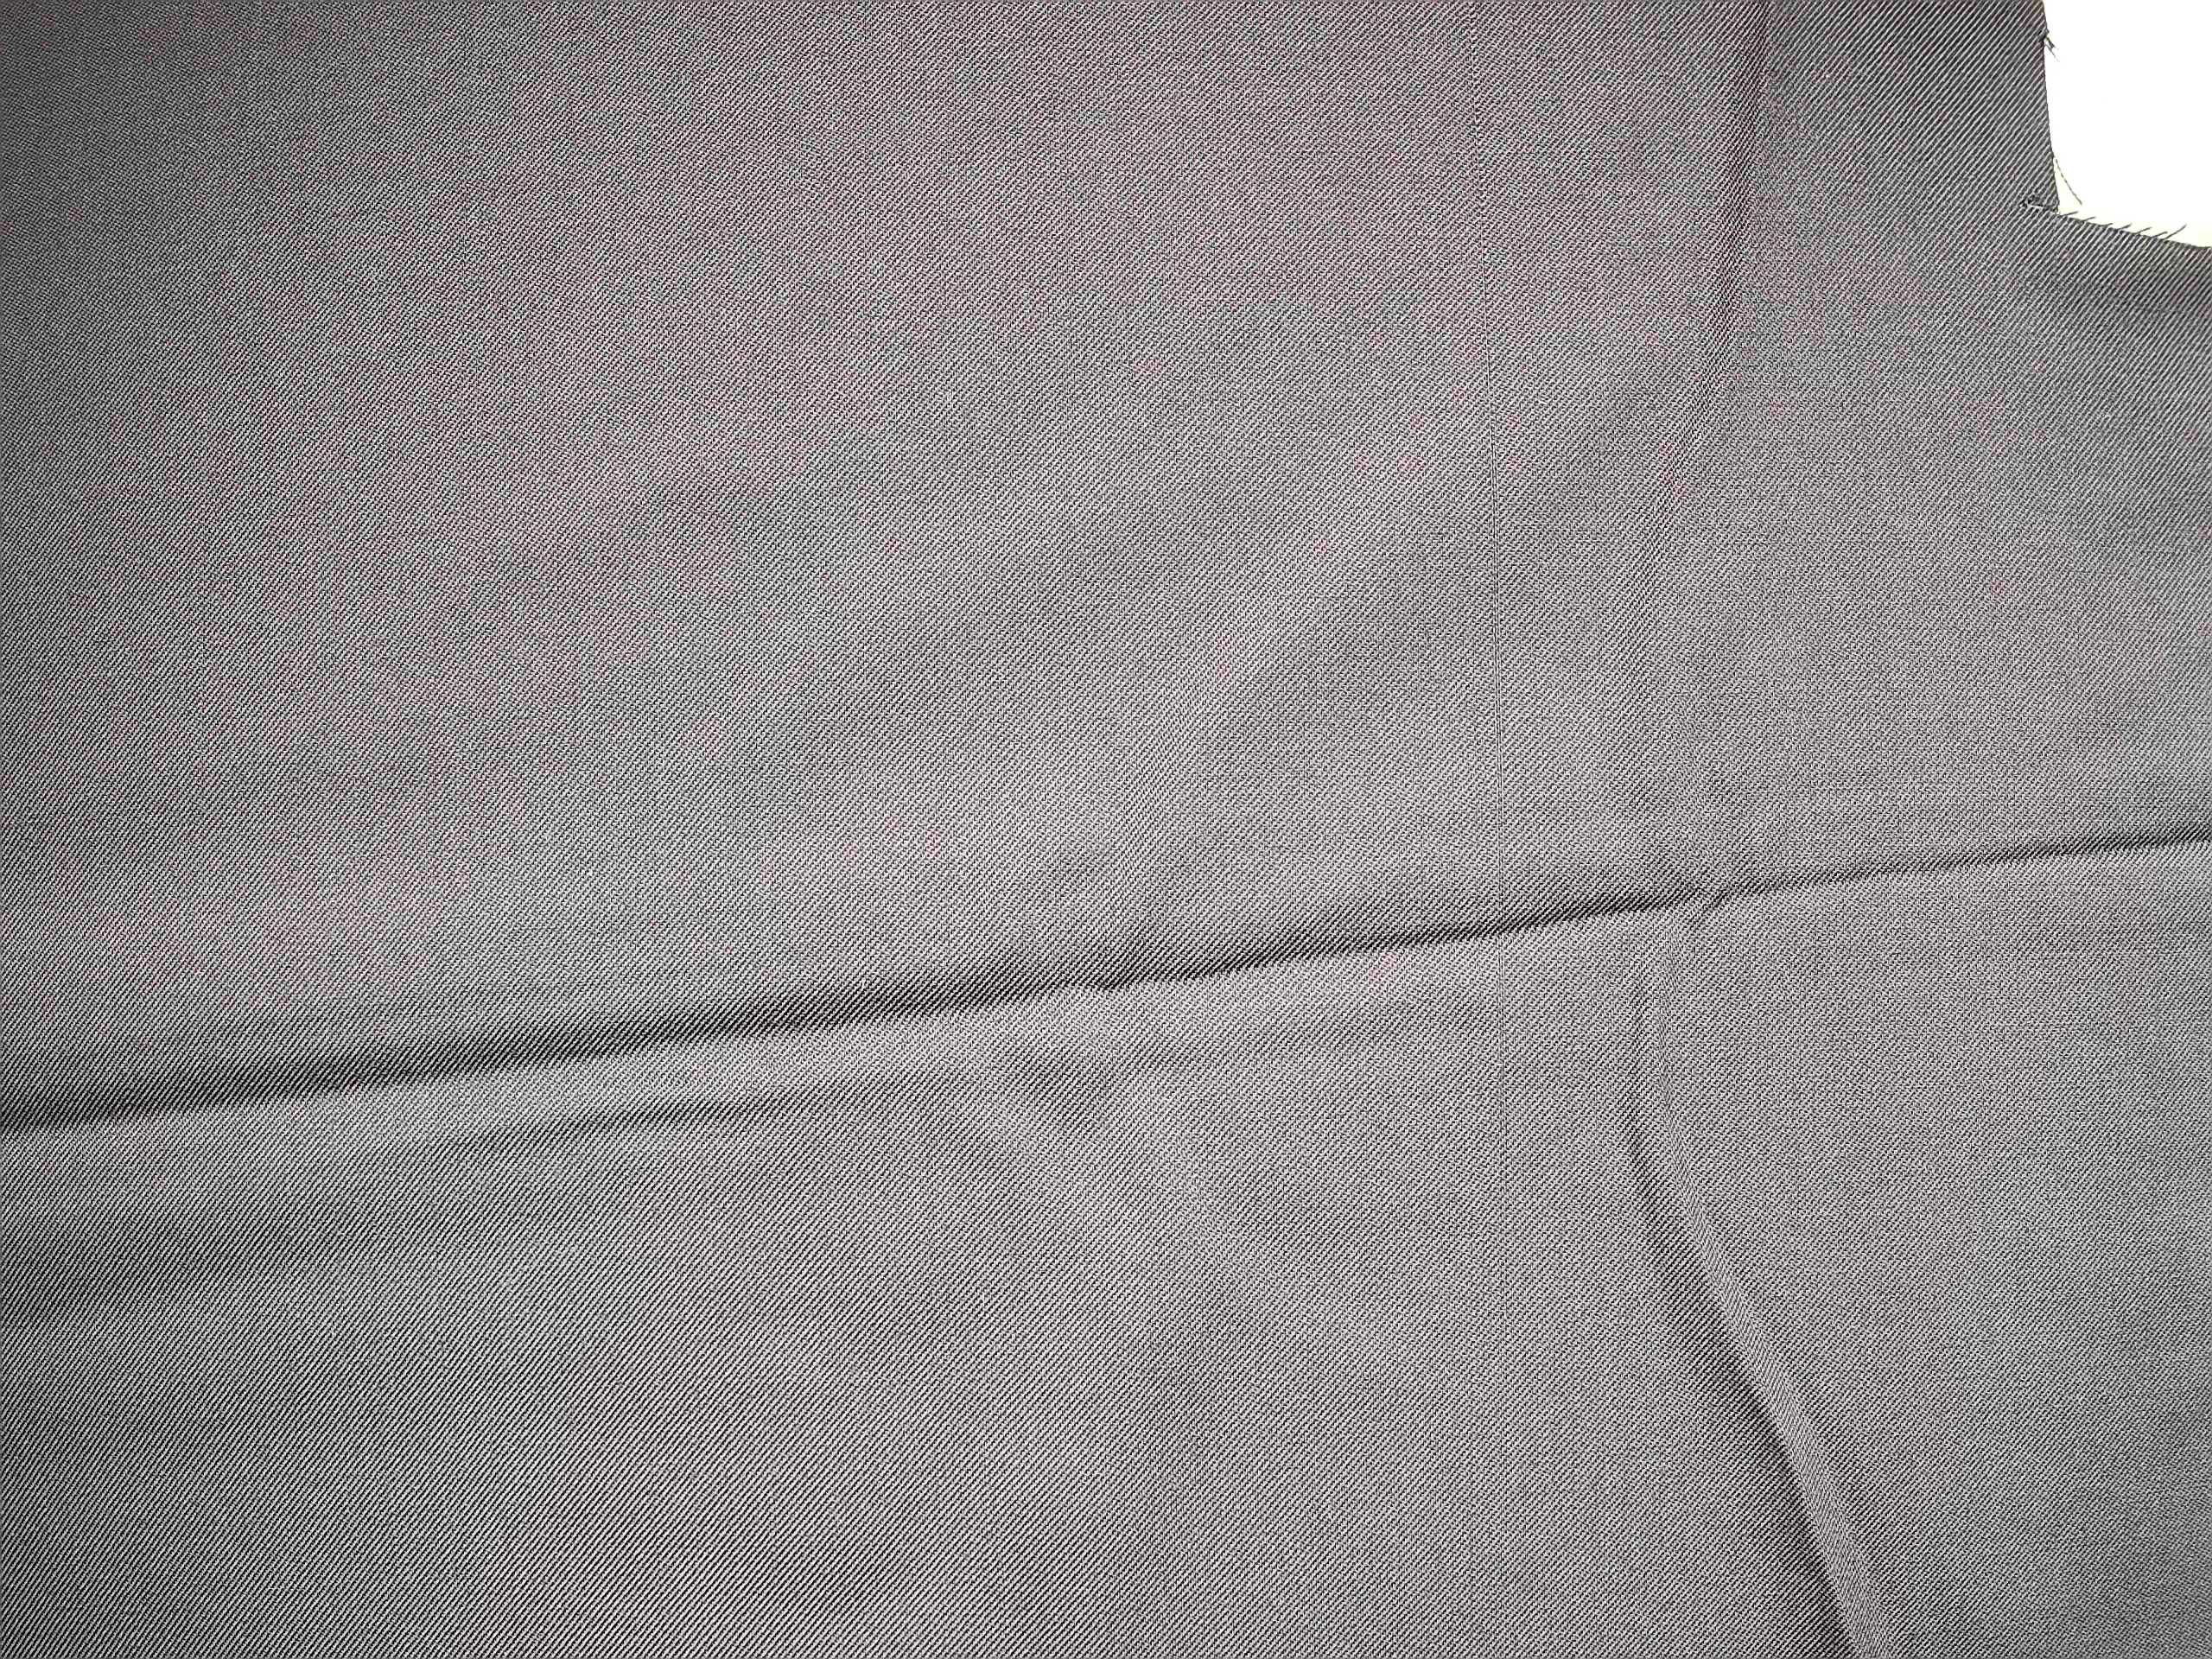hanging-warp: (1440, 24, 1526, 1351)
